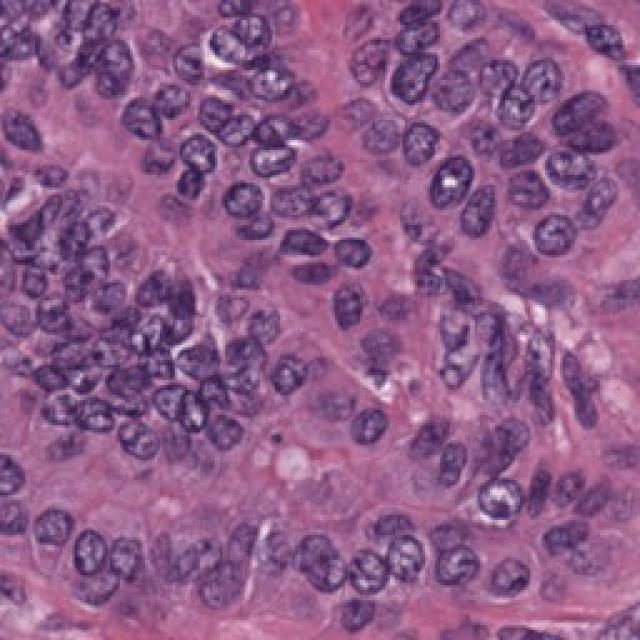abnormal: (418, 110, 487, 228), (520, 202, 600, 290), (282, 517, 360, 605), (57, 502, 123, 593), (383, 40, 453, 125), (165, 110, 232, 193), (483, 538, 545, 618), (467, 465, 533, 537), (425, 526, 482, 606), (235, 135, 313, 188), (384, 535, 439, 605), (116, 295, 172, 363), (115, 95, 167, 168), (387, 107, 445, 172), (302, 172, 360, 233), (327, 283, 383, 345), (490, 72, 545, 135), (210, 170, 263, 228)
